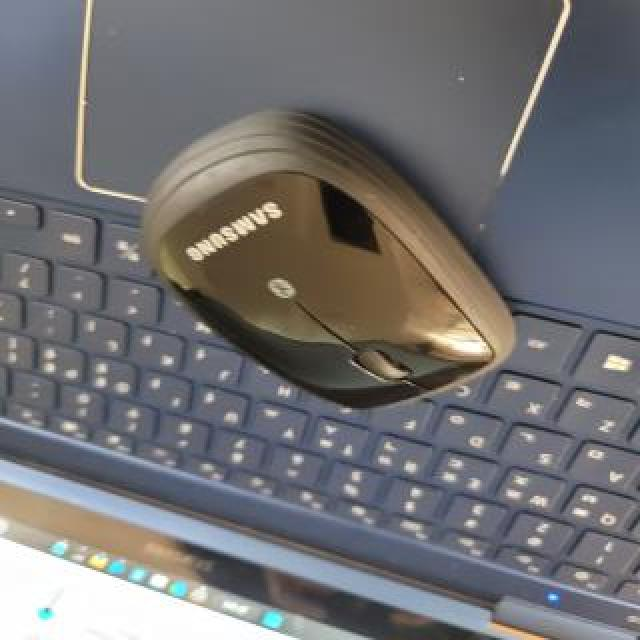mouse: (130, 114, 539, 429)
